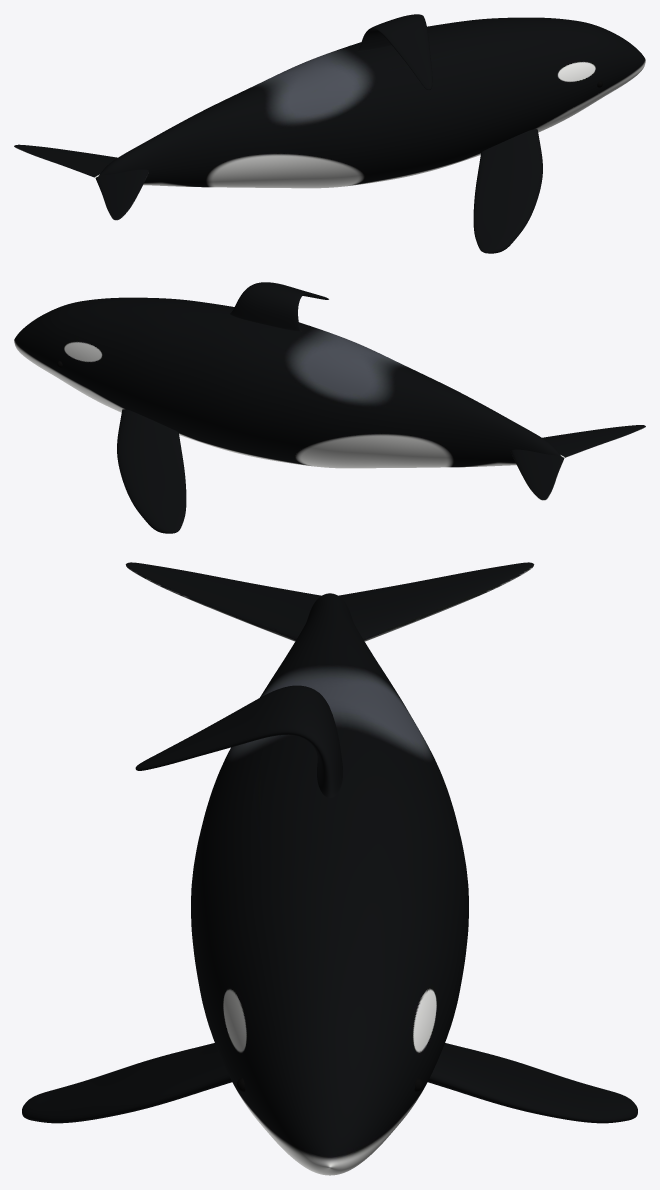
File: orcaStarboard.glb
3 renders of one model, top to bottom at view 1: azimuth 30°, elevation 25°; view 2: azimuth 150°, elevation 25°; view 3: azimuth 270°, elevation 25°, orthographic. The views are drawn at different scales.
Visible parts, largest first — view 1: skin; view 2: skin; view 3: skin.
Boxes of the visible parts, left/top/right/bottom form: skin: left=14, top=14, right=645, bottom=253; skin: left=14, top=282, right=645, bottom=533; skin: left=22, top=562, right=637, bottom=1175.
Size of the model in its own units: 4.1 by 1.29 by 1.88.
1 material, 1 textured.
